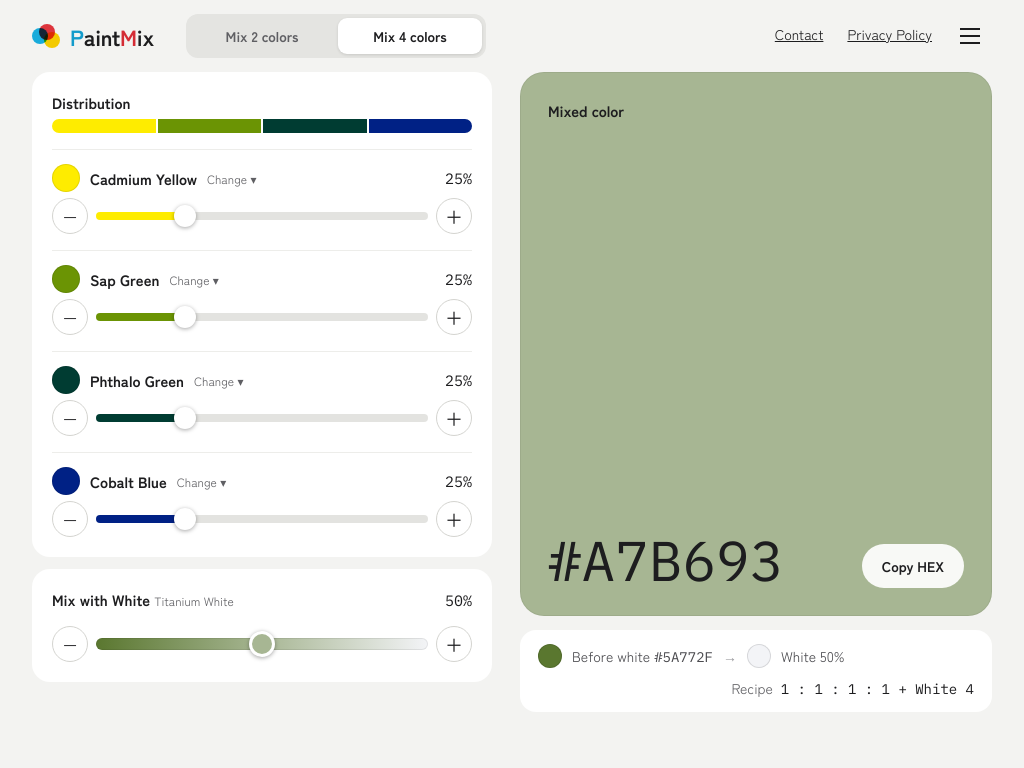
Test: four-color mixing › shows each paint share and updates the recipe
The width and height of the screenshot is (1024, 768).
Expected: the text "1 : 1 : 1 : 1 + White 4" is shown, left=781, top=680, right=974, bottom=698
Set the slider named "Amount of Color 1" to "0": (104, 216) left=96, top=198, right=428, bottom=234
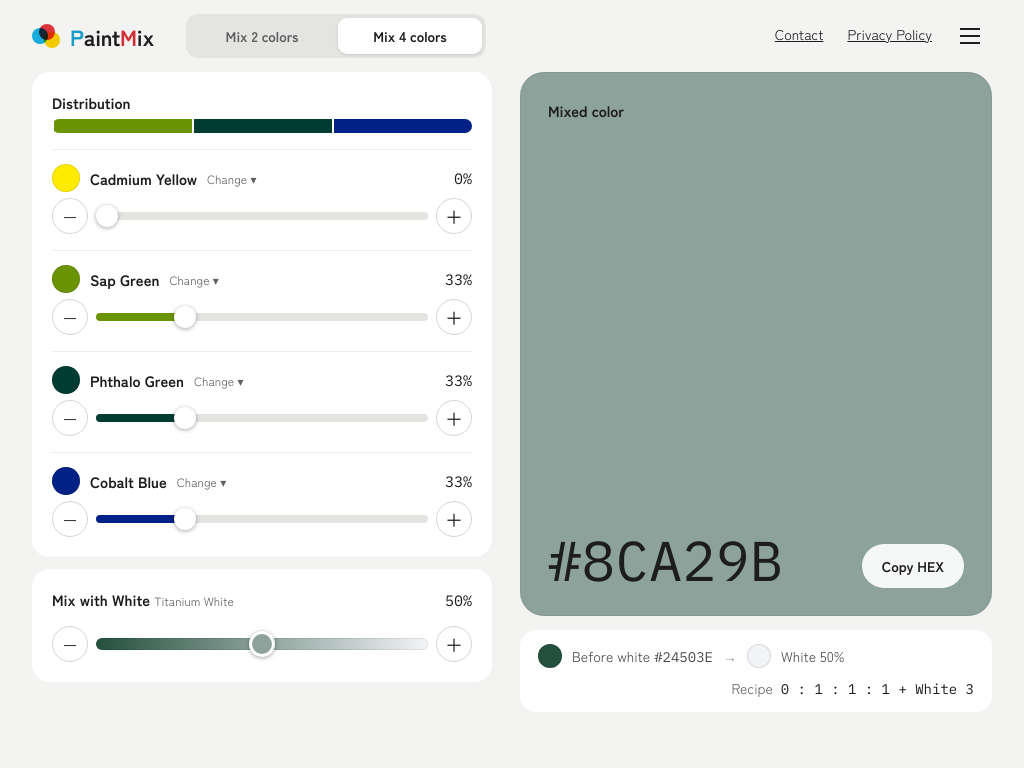
Expected: the text "0 : 1 : 1 : 1 + White 3" is shown, left=781, top=680, right=974, bottom=698
